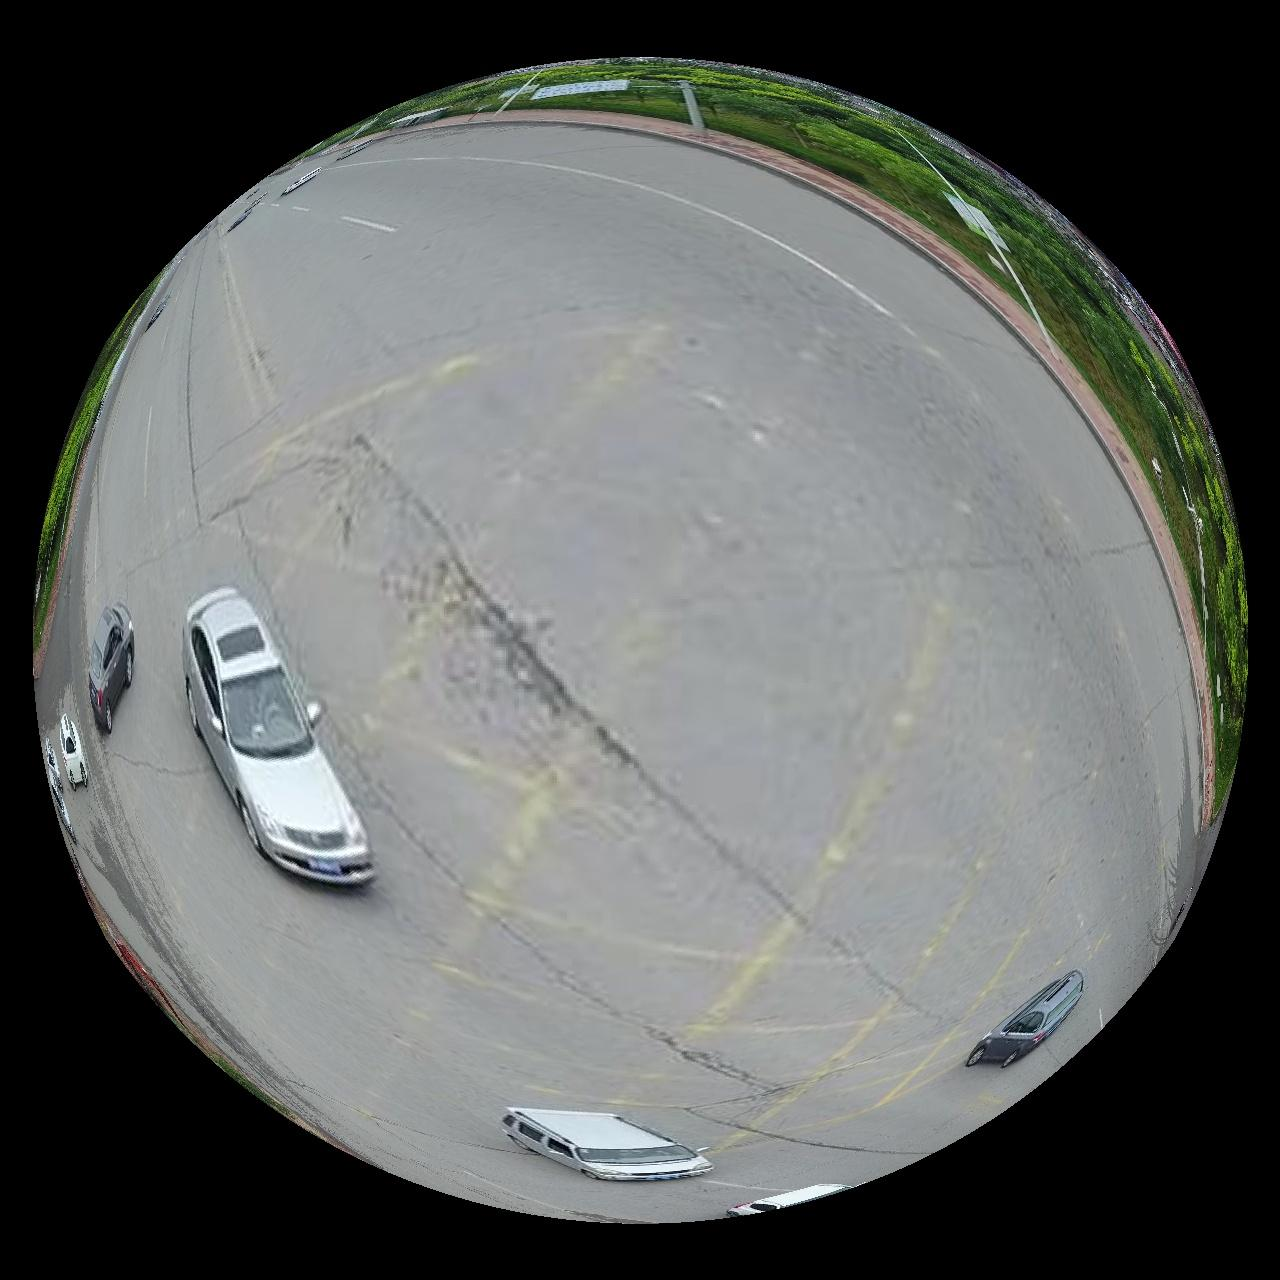cars: (182, 588, 375, 887), (502, 1109, 714, 1183), (967, 972, 1085, 1069), (87, 602, 132, 735), (729, 1186, 853, 1218), (57, 713, 86, 788)
trees: (345, 57, 1250, 788), (32, 302, 141, 665)
